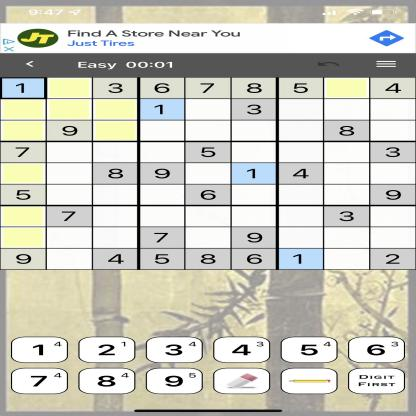sudoku: (2, 76, 416, 271)
